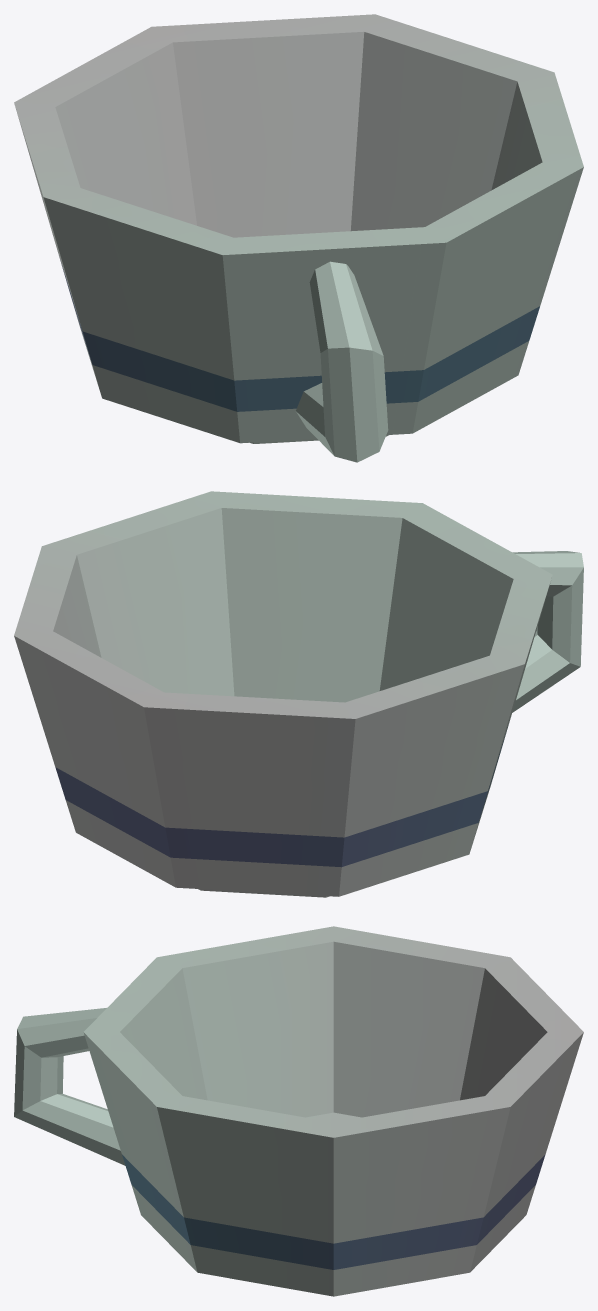
The model's file is Food_Cup_White.fbx.
3 views of the same model, one above another, from view 1: azimuth 30°, elevation 25°; view 2: azimuth 150°, elevation 25°; view 3: azimuth 270°, elevation 25° (orthographic). The views are drawn at different scales.
Parts seen in each view (by area): view 1: Cup.004; view 2: Cup.004; view 3: Cup.004.
Part boxes in pixels (left/top/right/bottom): Cup.004: left=14, top=14, right=583, bottom=462; Cup.004: left=14, top=491, right=583, bottom=897; Cup.004: left=14, top=926, right=583, bottom=1296.
Bounding box in the file's own units: 10.76 × 4.79 × 12.26.
